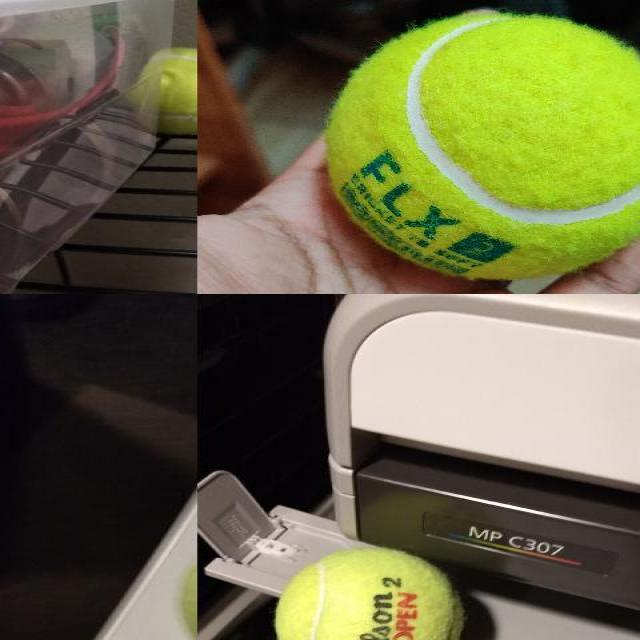tennis-ball: (327, 15, 639, 278), (273, 547, 467, 639), (169, 46, 195, 135)
